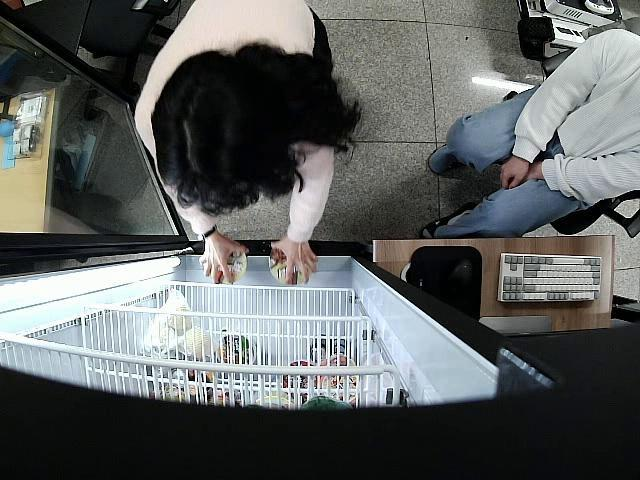03_chapagetti_L: (264, 247, 313, 284), (208, 248, 247, 283)
